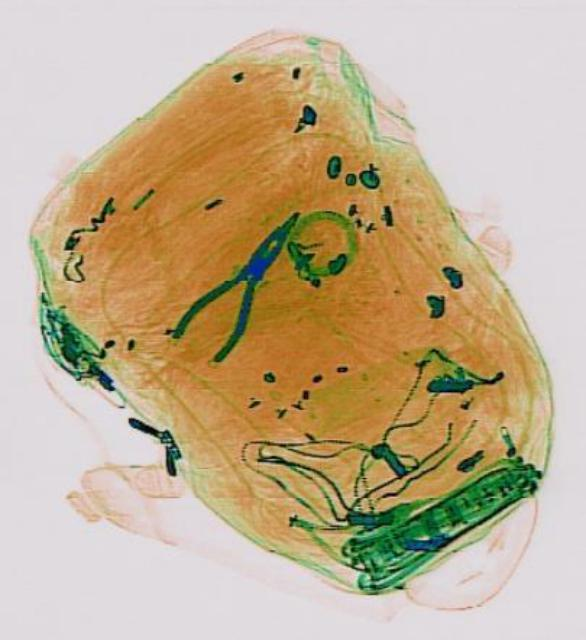Pliers: (163, 190, 319, 370)
